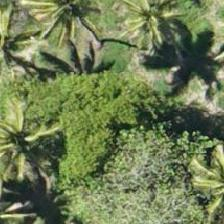coconut_tree: (123, 0, 213, 67), (0, 104, 56, 194), (1, 0, 91, 55)
